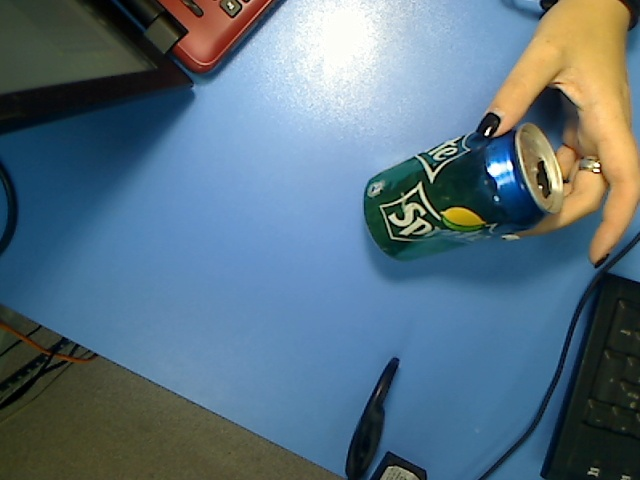can: (362, 118, 565, 264)
